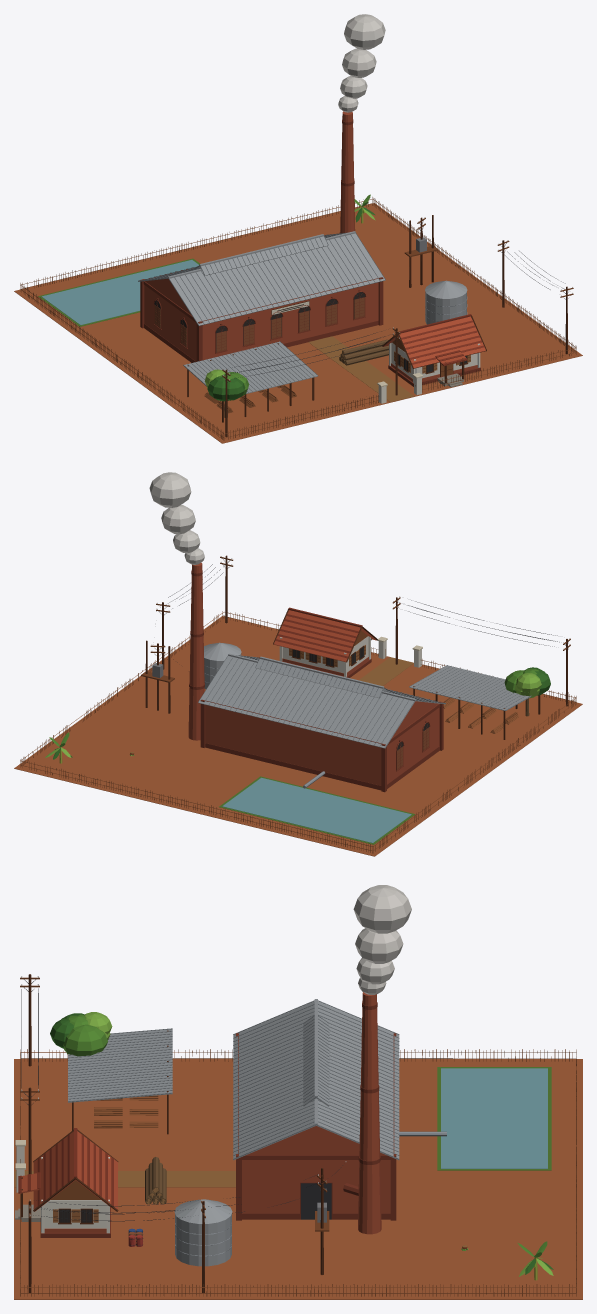
Rendered from power_plant.glb.
The picture shows the model from 3 angles, top to bottom: view 1: azimuth 30°, elevation 25°; view 2: azimuth 150°, elevation 25°; view 3: azimuth 270°, elevation 25°; orthographic projection. The views are drawn at different scales.
Visible parts, largest first — view 1: body, windows; view 2: body; view 3: body.
Part boxes in pixels (x1,y1,x2,y2): body: (14,14,582,443); windows: (154,292,466,372); body: (14,472,582,856); body: (14,885,582,1299).
Bounding box in the file's own units: 47.9 × 33.38 × 47.9.
